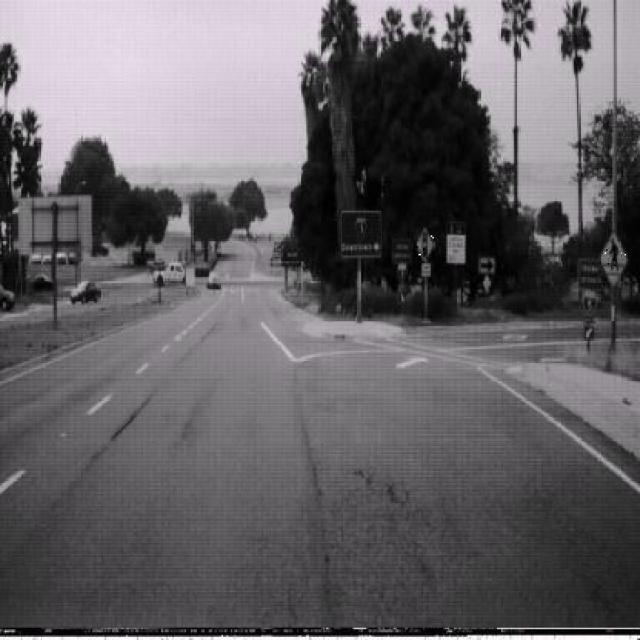pedestrianCrossing: (598, 230, 628, 286)
signalAhead: (418, 224, 437, 262)
